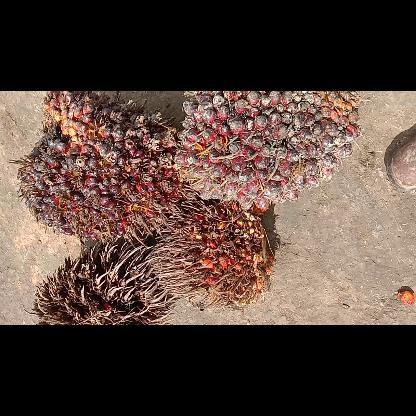Janjang kosong: (25, 236, 183, 324)
Kurang masak: (173, 91, 369, 211)
TBS masak: (7, 92, 182, 240)
Terlalu masak: (151, 200, 279, 310)
